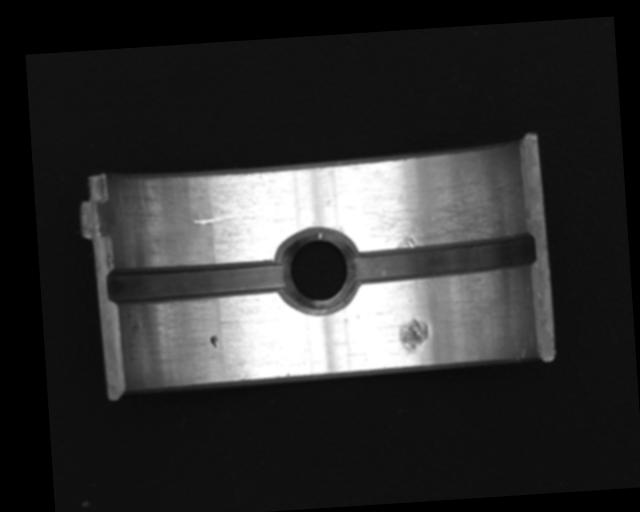bruise: (399, 314, 431, 355), (208, 334, 219, 351)
gap: (347, 231, 537, 285), (106, 257, 289, 305)
hole: (276, 224, 359, 317)
nick: (190, 208, 254, 225)
scratch: (344, 167, 514, 254)
